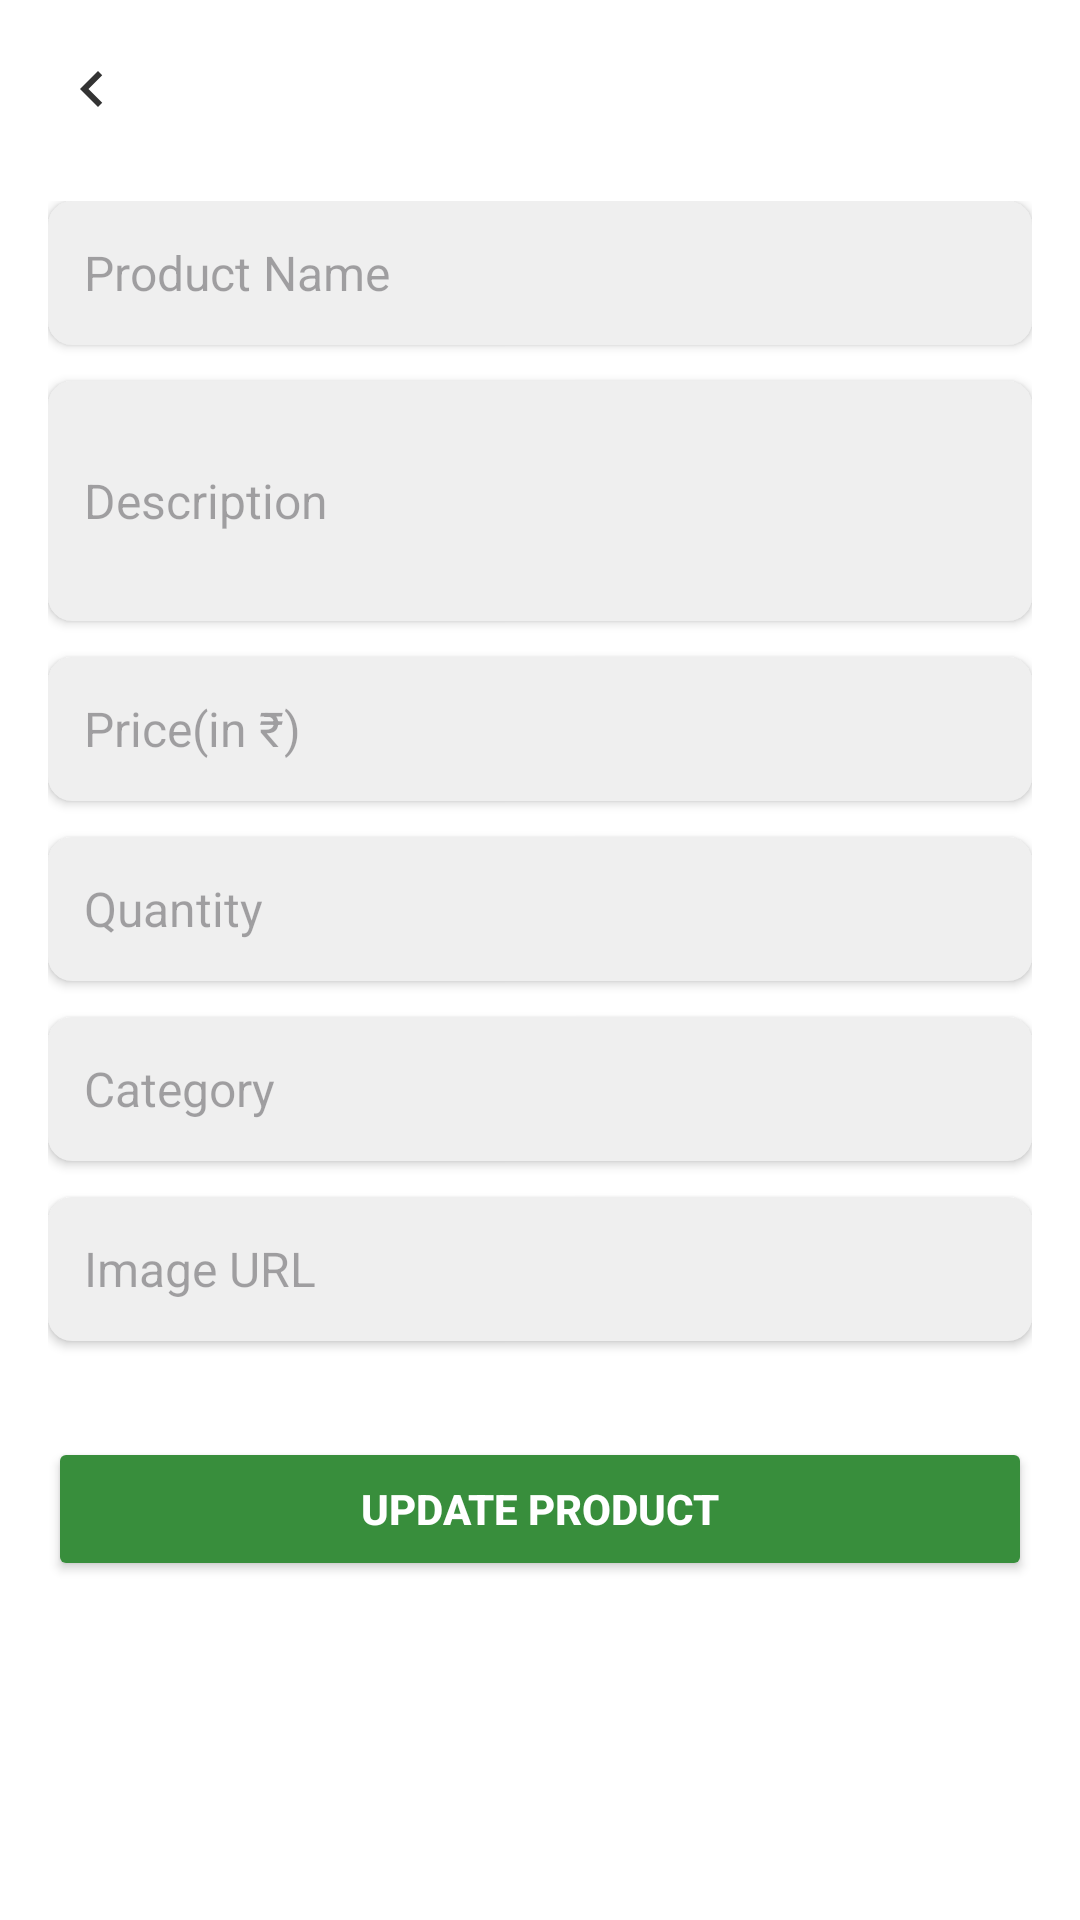

Where to tap for icons on this 1080px×1920px app screen, as [x,y]:
Back Button: [91,89]
